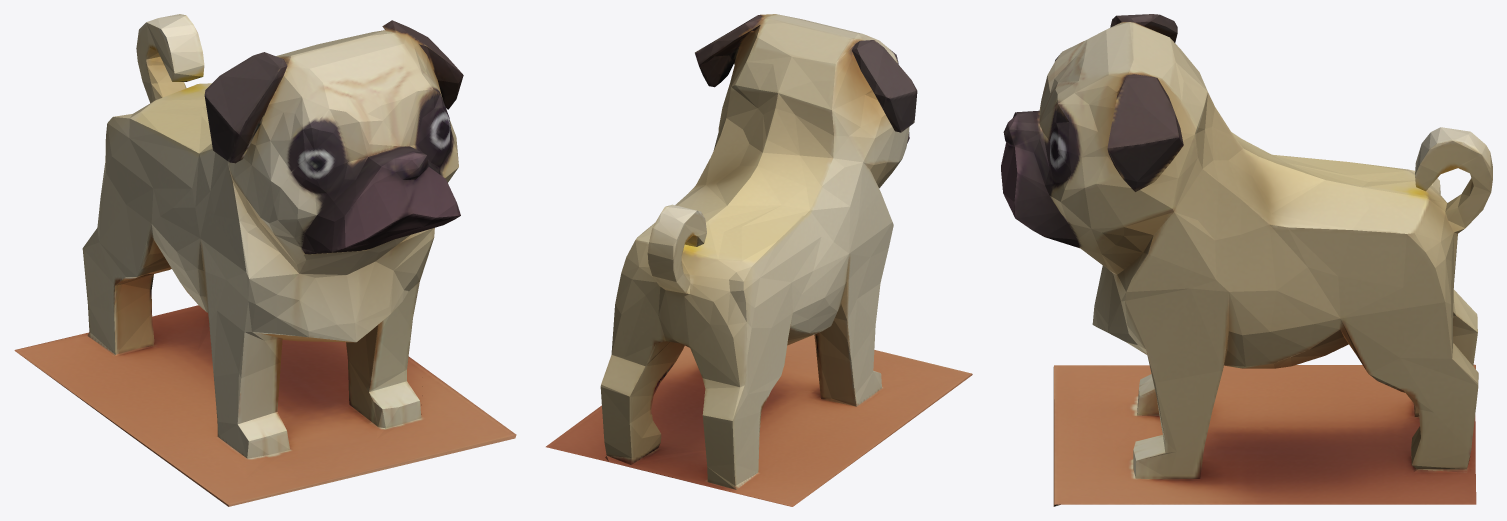
Rendered from model-pick-3.glb.
3 renders of one model, left to right at view 1: azimuth 30°, elevation 25°; view 2: azimuth 150°, elevation 25°; view 3: azimuth 270°, elevation 25°, orthographic. The views are drawn at different scales.
Parts seen in each view (by area): view 1: geometry_0; view 2: geometry_0; view 3: geometry_0.
Part boxes in pixels (x1=…): geometry_0: x1=14, y1=14, x2=516, y2=506; geometry_0: x1=546, y1=14, x2=972, y2=506; geometry_0: x1=1001, y1=14, x2=1492, y2=506.
Size of the model in its own units: 0.3224 by 0.4238 by 0.4775.
1 material, 1 textured.
